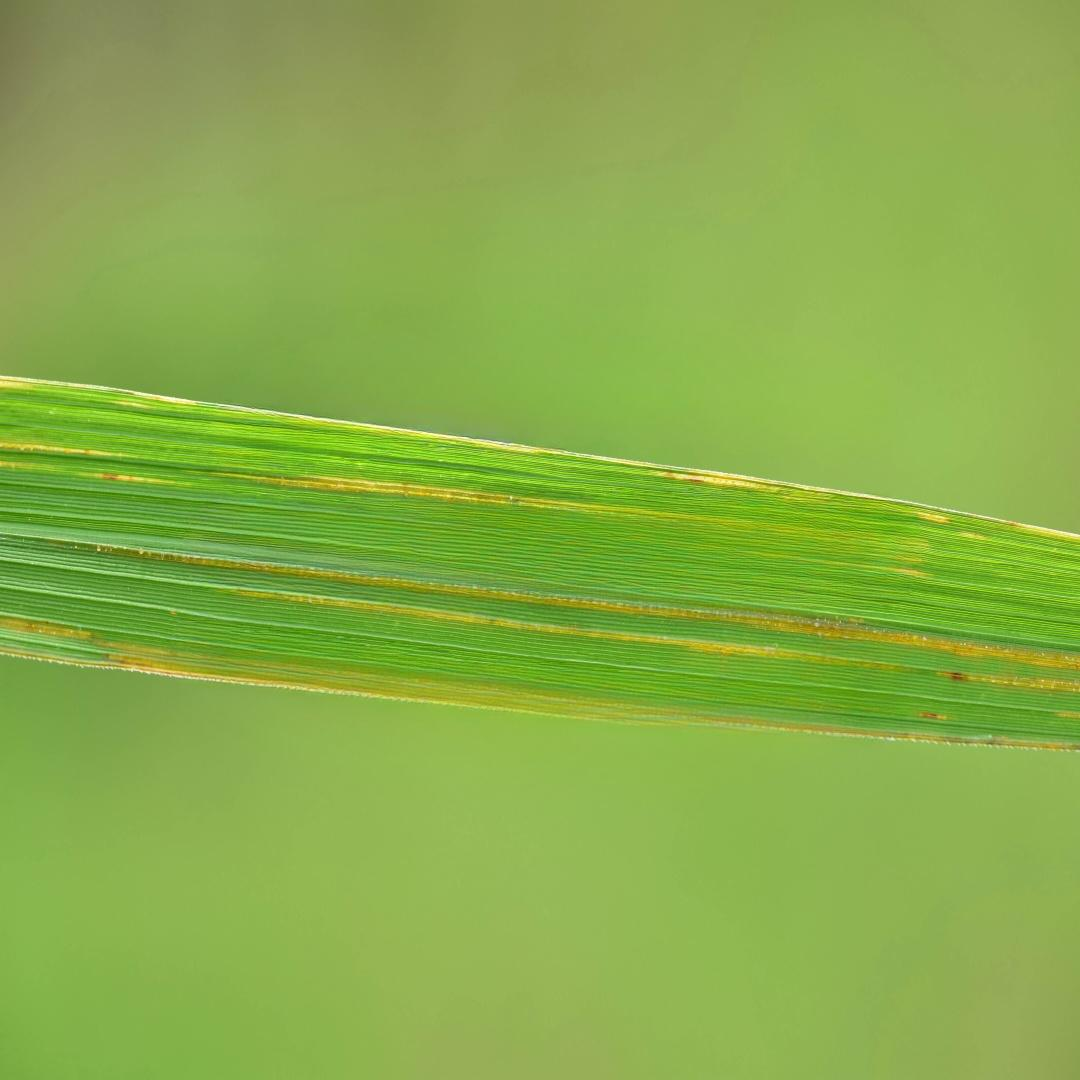BLS: (83, 543, 1079, 670), (105, 654, 1079, 749), (277, 414, 915, 504), (226, 589, 904, 673), (182, 469, 756, 524), (93, 640, 366, 678), (0, 376, 203, 406), (935, 671, 1079, 693), (0, 441, 139, 459), (1, 617, 94, 642), (68, 472, 176, 484)
